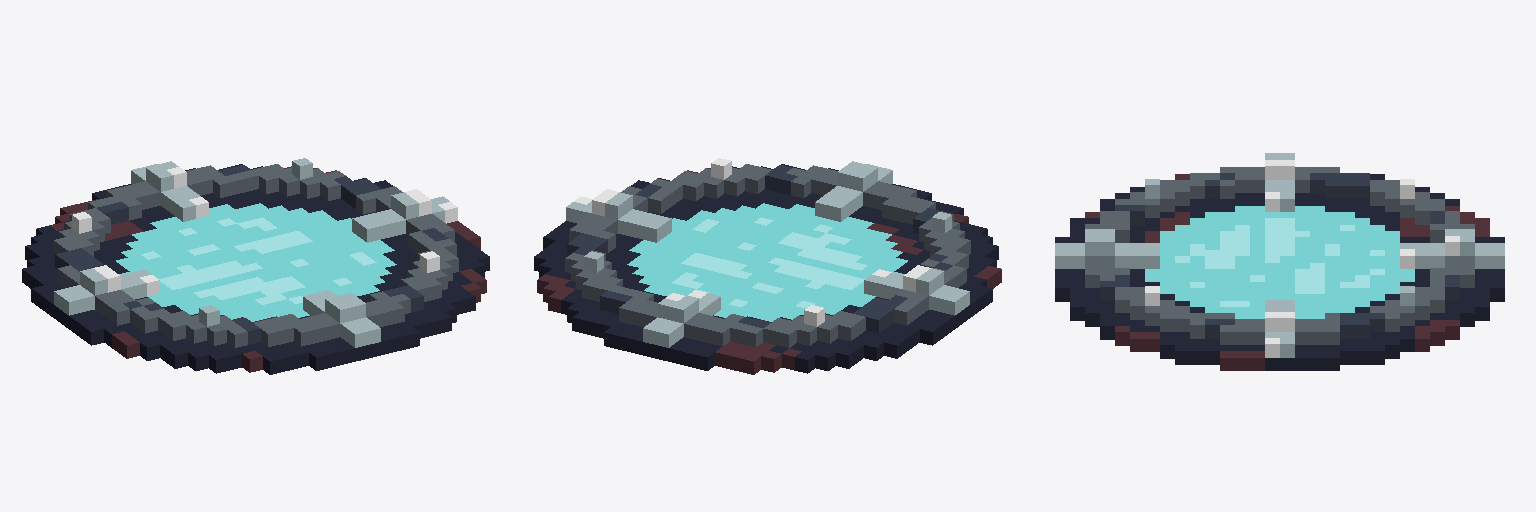
The picture shows the model from 3 angles: view 1: azimuth 30°, elevation 25°; view 2: azimuth 150°, elevation 25°; view 3: azimuth 270°, elevation 25°; orthographic projection.
Parts seen in each view (by area): view 1: object 1; view 2: object 1; view 3: object 1.
Part boxes in pixels (x1,y1,x2,y2): object 1: (22, 158, 489, 374); object 1: (534, 158, 1001, 374); object 1: (1055, 153, 1504, 370).
Bounding box in the file's own units: 3 × 0.3 × 3.
Materials: 1 (1 with a texture image).